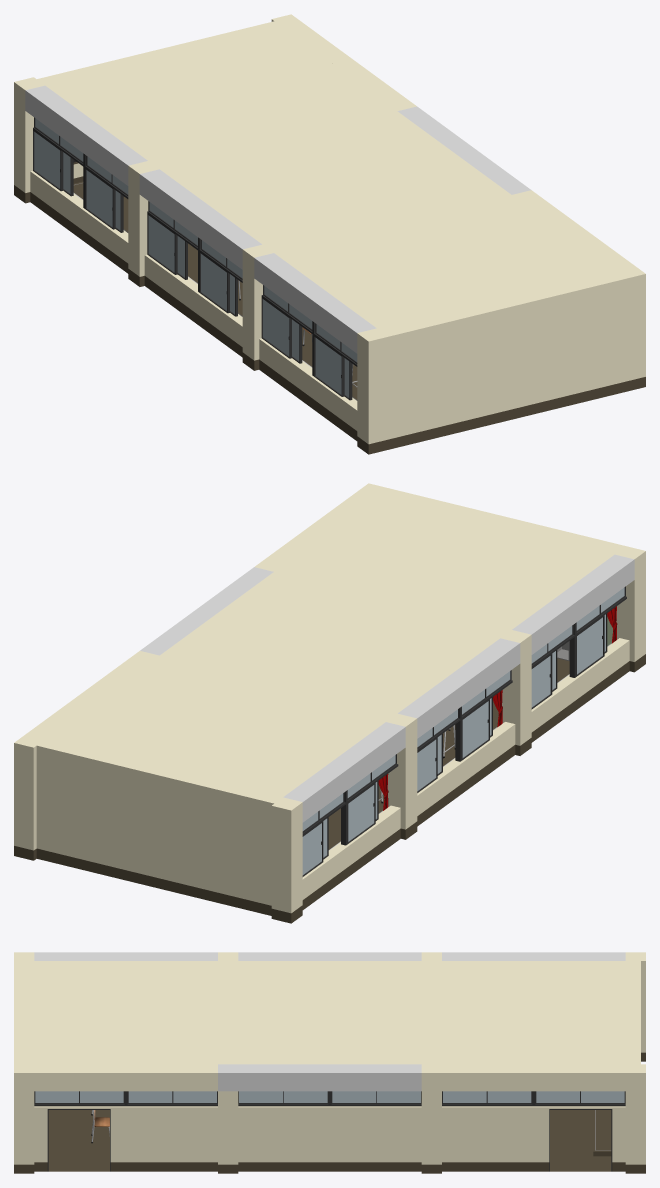
Rendered from japanese_classroom.glb.
3 renders of one model, top to bottom at view 1: azimuth 30°, elevation 25°; view 2: azimuth 150°, elevation 25°; view 3: azimuth 270°, elevation 25°, orthographic. The views are drawn at different scales.
Visible parts, largest first — view 1: Chair.015; view 2: Chair.015; view 3: Chair.015.
Boxes of the visible parts, <box> form: Chair.015: <box>14,14,645,454</box>; Chair.015: <box>14,483,645,923</box>; Chair.015: <box>14,952,645,1173</box>.
Bounding box in the file's own units: 8.53 × 3.33 × 18.9.
Materials: 18 (5 with a texture image).
